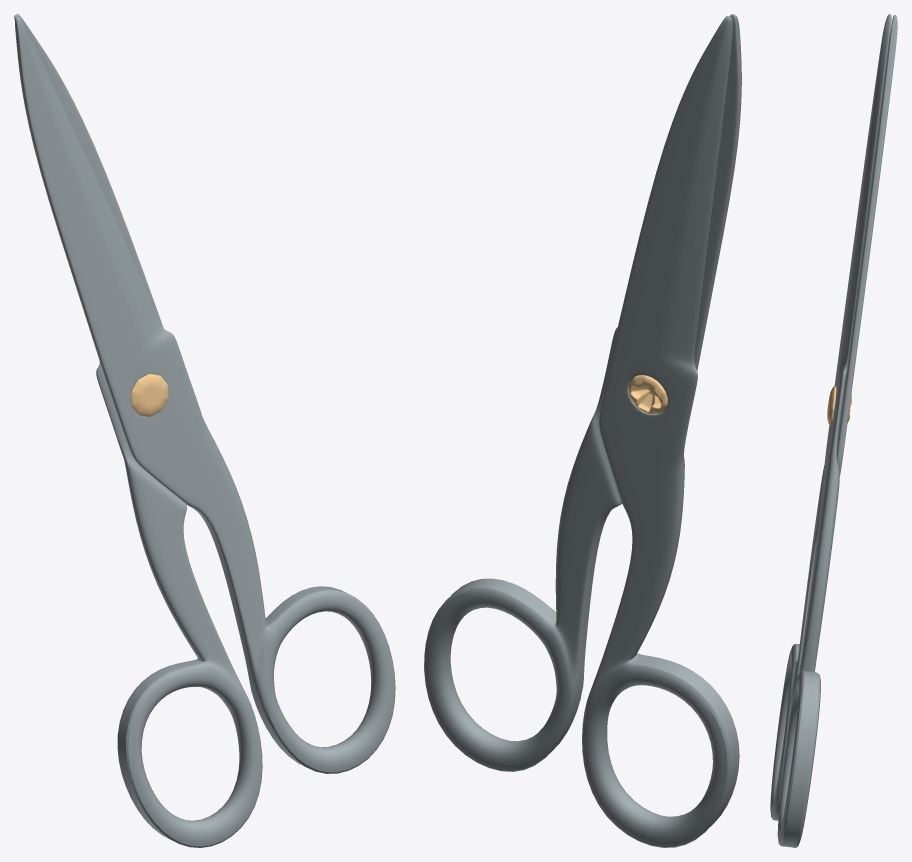
3 views of the same model, side by side, from view 1: azimuth 30°, elevation 25°; view 2: azimuth 150°, elevation 25°; view 3: azimuth 270°, elevation 25° (orthographic). The views are drawn at different scales.
Visible parts, largest first — view 1: Circle.002; view 2: Circle.002; view 3: Circle.002.
Part boxes in pixels (x1,y1,x2,y2): Circle.002: [14, 14, 395, 847]; Circle.002: [424, 14, 741, 847]; Circle.002: [770, 14, 897, 847].
Size of the model in its own units: 0.5468 by 1.31 by 0.2027.
